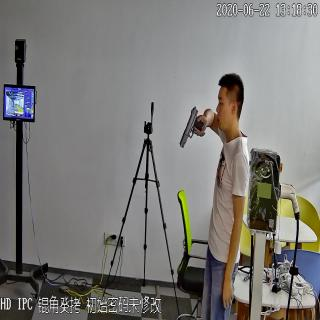gun: (178, 105, 206, 150)
